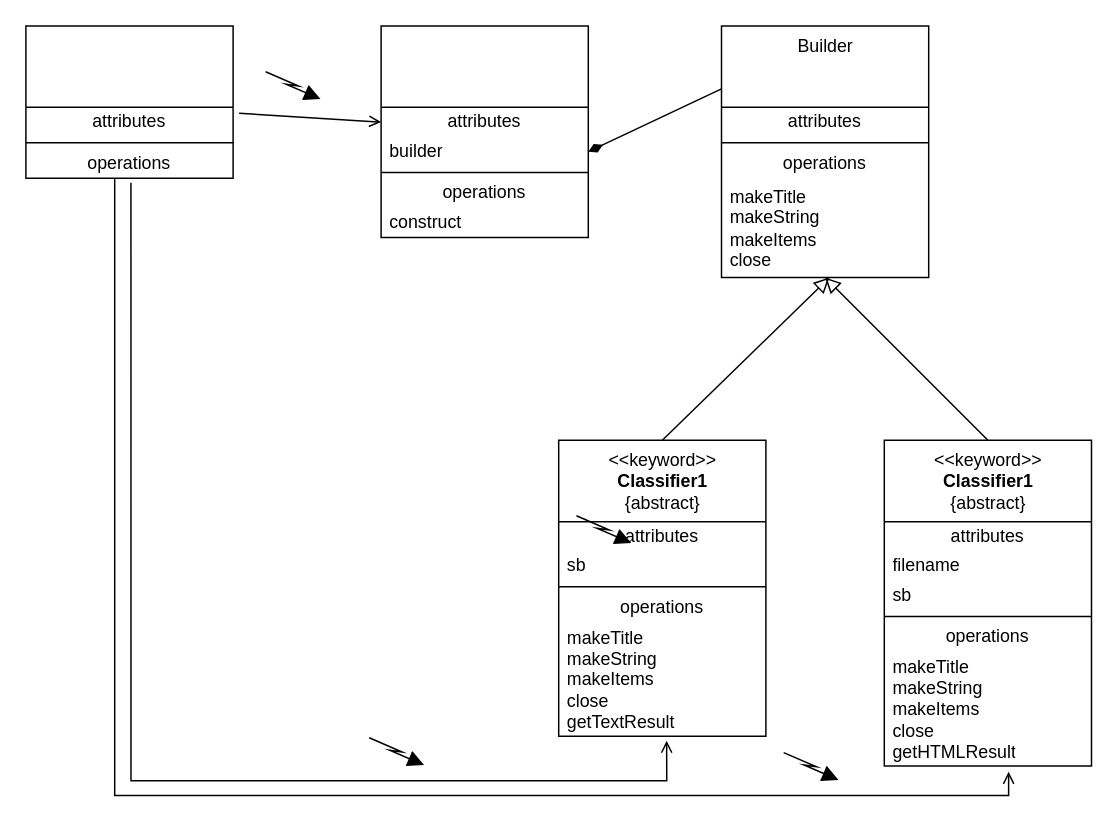
The diagram is 1117 pixels wide and 833 high, and some of its shapes have lost their labels. Here are the shapes that lost their labels. From the top down, the box of each, then its label:
(24, 24, 233, 178): Main
(380, 24, 588, 238): Director
